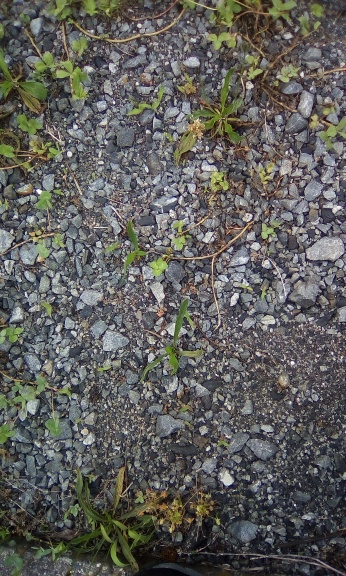4leaf: (148, 258, 169, 277)
